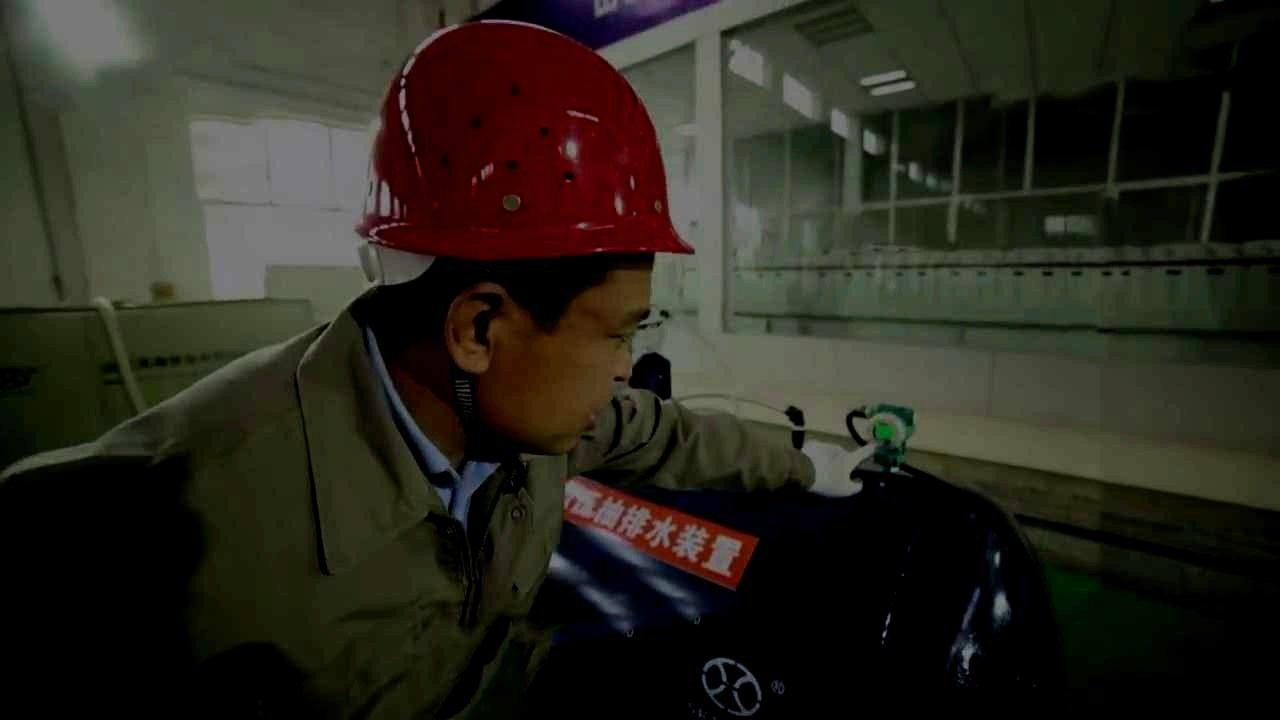helmet: (355, 19, 694, 459)
